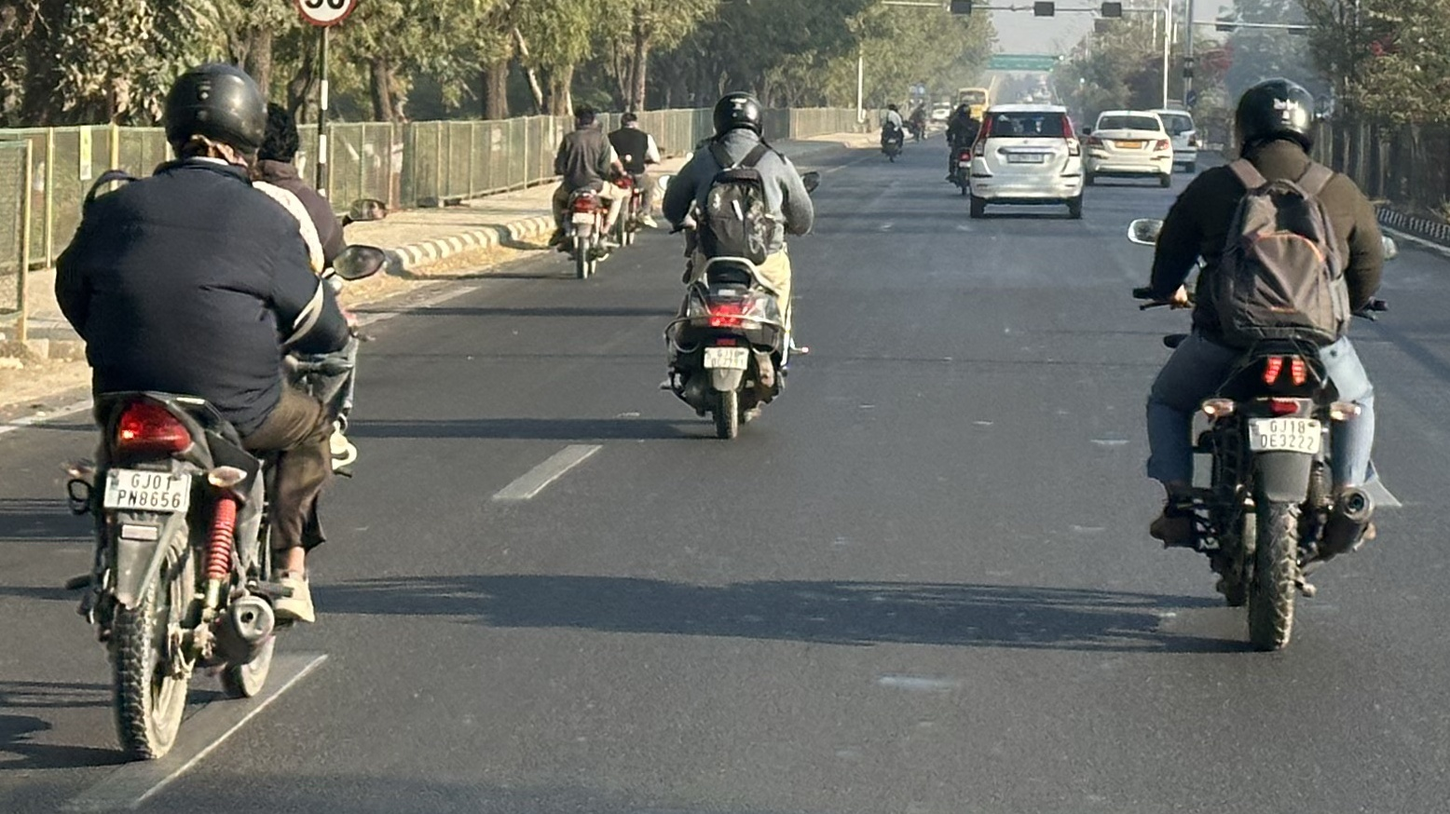BikeWithRider: (60, 30, 345, 753), (1114, 61, 1416, 647), (647, 81, 824, 445), (539, 96, 625, 285), (603, 85, 659, 244), (935, 104, 983, 192), (870, 99, 907, 169)
Helmet: (161, 60, 264, 180), (1223, 64, 1328, 167), (232, 88, 297, 172), (707, 89, 771, 148)
